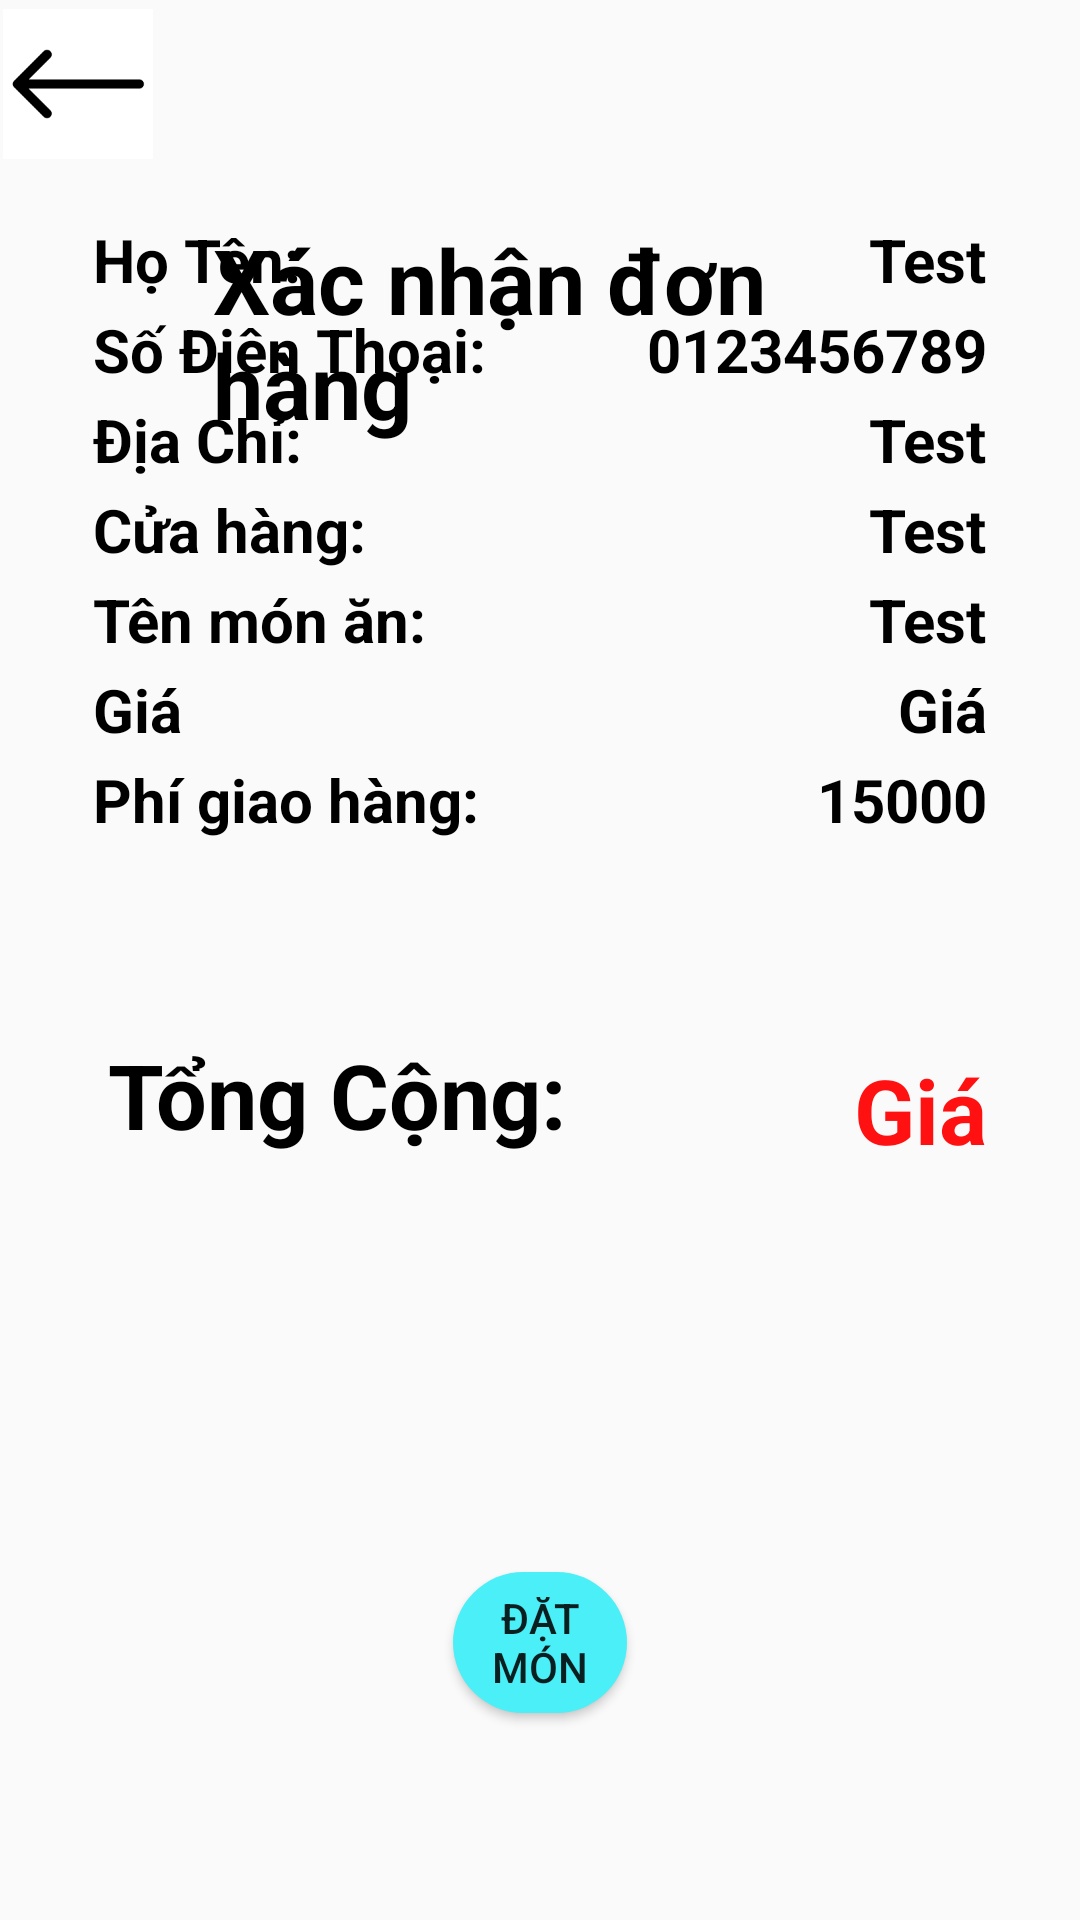

Icons on this 1080x1920 Android screen, each with its box as (x1, y1, x2, y2):
back: (12, 49, 144, 119)
